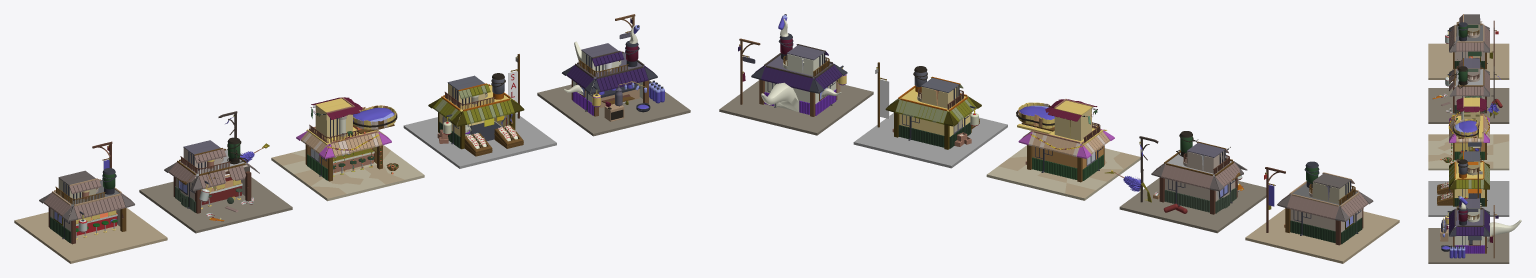
Rendered from ramen_ichiraku_hw_xyz_school_secondary_forms.glb.
The picture shows the model from 3 angles, left to right: view 1: azimuth 30°, elevation 25°; view 2: azimuth 150°, elevation 25°; view 3: azimuth 270°, elevation 25°; orthographic projection. The views are drawn at different scales.
Parts seen in each view (by area): view 1: Plane, Plane.056, Plane.106, Plane.131, Plane.118, Cube.218, Cube.029, Cube.217, Cube.070, Cube.113, Cube.221, Cube.099 (+4 smaller); view 2: Plane.056, Plane, Plane.118, Plane.131, Plane.106, Cube.051, Cube.029, Cube.218, Cube.070, Cube.217, Cube.115, Plane.018 (+13 smaller); view 3: Plane.118, Plane.056, Plane, Plane.106, Plane.131, Cube.070, Cube.029, Cube.218, Cube.217, Cube.221, Cube.115, Plane.160 (+59 smaller).
Part boxes in pixels (left/top/right/bottom): Plane: left=14, top=208, right=167, bottom=263; Plane.056: left=271, top=145, right=424, bottom=201; Plane.106: left=139, top=177, right=292, bottom=233; Plane.131: left=403, top=113, right=556, bottom=168; Plane.118: left=537, top=80, right=690, bottom=136; Cube.218: left=433, top=85, right=518, bottom=124; Cube.029: left=44, top=180, right=129, bottom=219; Cube.217: left=566, top=52, right=652, bottom=91; Cube.070: left=168, top=149, right=254, bottom=212; Cube.113: left=330, top=132, right=382, bottom=156; Cube.221: left=577, top=43, right=644, bottom=78; Cube.099: left=315, top=106, right=352, bottom=138; Plane.056: left=986, top=145, right=1140, bottom=200; Plane: left=1245, top=208, right=1399, bottom=263; Plane.118: left=719, top=80, right=873, bottom=135; Plane.131: left=853, top=113, right=1007, bottom=168; Plane.106: left=1119, top=178, right=1266, bottom=233; Cube.051: left=1161, top=151, right=1235, bottom=201; Cube.029: left=1281, top=192, right=1368, bottom=219; Cube.218: left=890, top=96, right=976, bottom=124; Cube.070: left=1156, top=161, right=1240, bottom=189; Cube.217: left=755, top=63, right=842, bottom=91; Cube.115: left=765, top=53, right=836, bottom=111; Plane.018: left=1290, top=217, right=1362, bottom=244; Plane.118: left=1428, top=228, right=1509, bottom=263; Plane.056: left=1428, top=134, right=1509, bottom=170; Plane: left=1428, top=43, right=1509, bottom=79; Plane.106: left=1428, top=88, right=1509, bottom=123; Plane.131: left=1428, top=181, right=1509, bottom=216; Cube.070: left=1441, top=70, right=1489, bottom=105; Cube.029: left=1449, top=26, right=1489, bottom=51; Cube.218: left=1449, top=163, right=1489, bottom=188; Cube.217: left=1449, top=210, right=1489, bottom=235; Cube.221: left=1455, top=198, right=1483, bottom=226; Cube.115: left=1454, top=202, right=1484, bottom=245; Plane.160: left=1487, top=219, right=1521, bottom=242.
Bounding box in the file's own units: 52.22 × 6.39 × 9.43.
